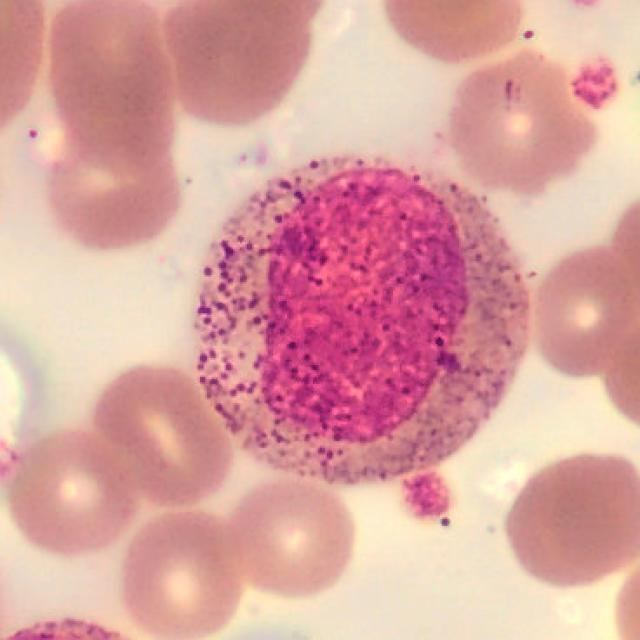Promielocito: (195, 163, 530, 488)
